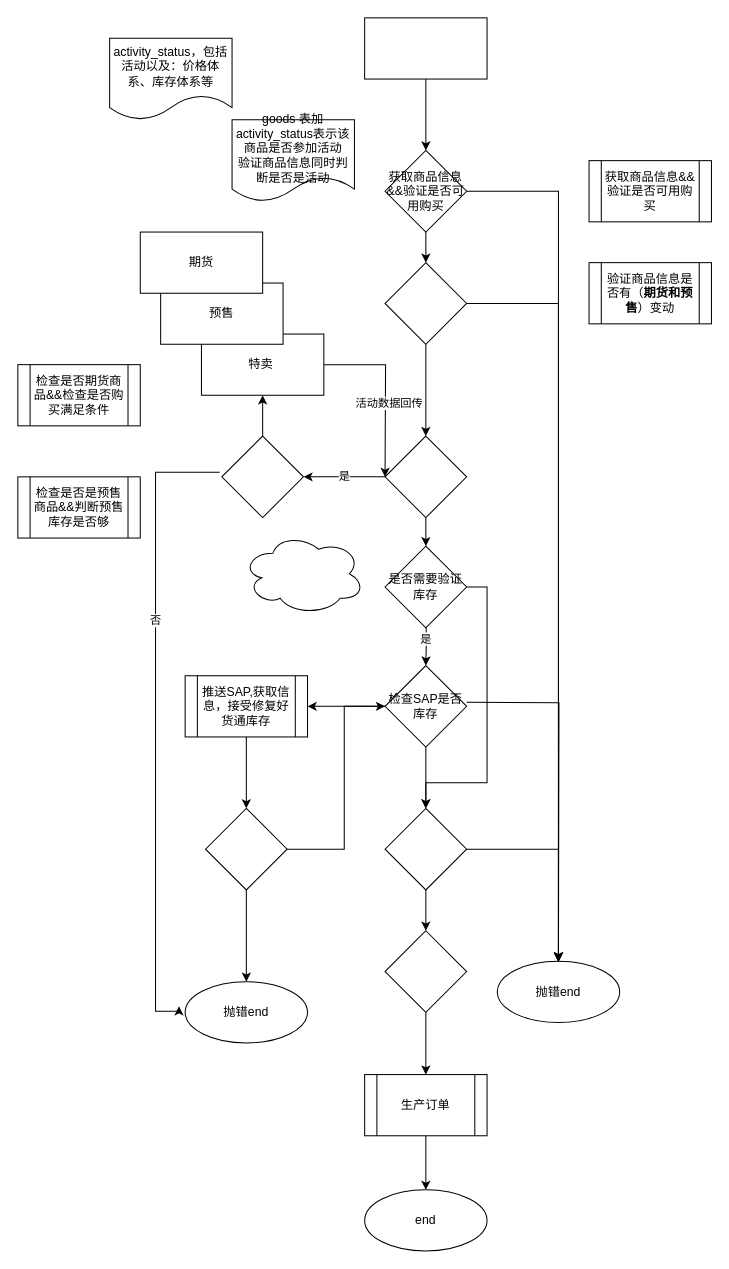
This 729x1269 diagram has some shape labels left out. The shapes that lost their labels are listed below. From the top down, each one's centre as x and y in pixels, then its label:
At (425,48): "下订单（和显示价格无关，全都是校验）".
At (425,303): "验证商品信息是否有变动".
At (262,476): "检查活动是否满足购买条件".
At (425,476): "是否是参加活动".
At (303,573): "期货、预售是不需要验证库存".
At (246,848): "库存是否正常".
At (425,848): "现货验证混批（最少购买单数）".
At (425,971): "检查特卖和现货订单最少下单金额； 该模块未验证".
